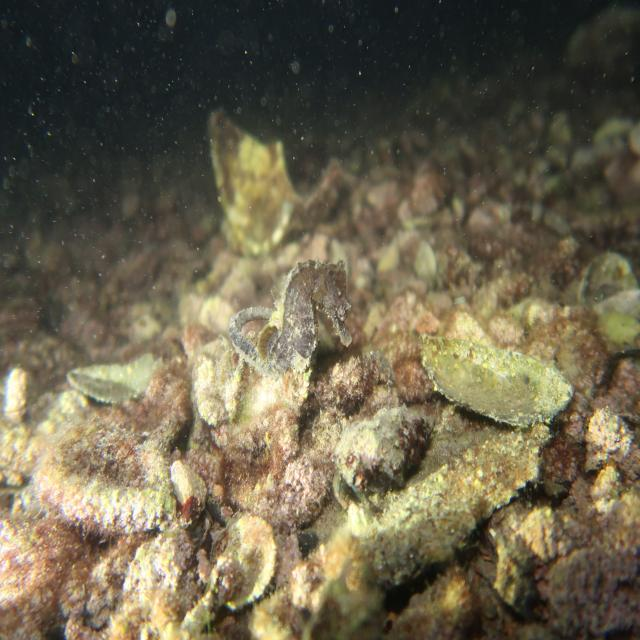Hippo: (308, 257, 356, 353)
